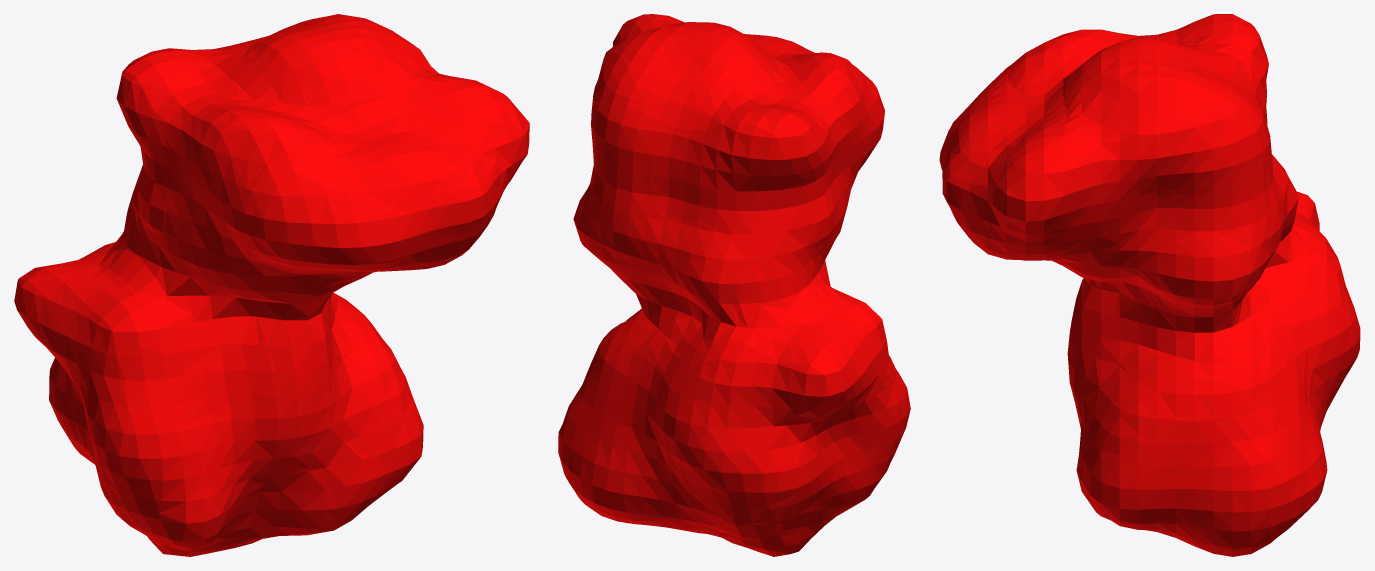
File: nuoE_coarse.dae
3 renders of one model, left to right at view 1: azimuth 30°, elevation 25°; view 2: azimuth 150°, elevation 25°; view 3: azimuth 270°, elevation 25°, orthographic. The views are drawn at different scales.
Parts seen in each view (by area): view 1: nuoE; view 2: nuoE; view 3: nuoE.
Part boxes in pixels (left/top/right/bottom): nuoE: left=14, top=14, right=529, bottom=556; nuoE: left=558, top=14, right=910, bottom=556; nuoE: left=939, top=14, right=1360, bottom=556.
Size of the model in its own units: 42.51 by 55.51 by 42.24.
